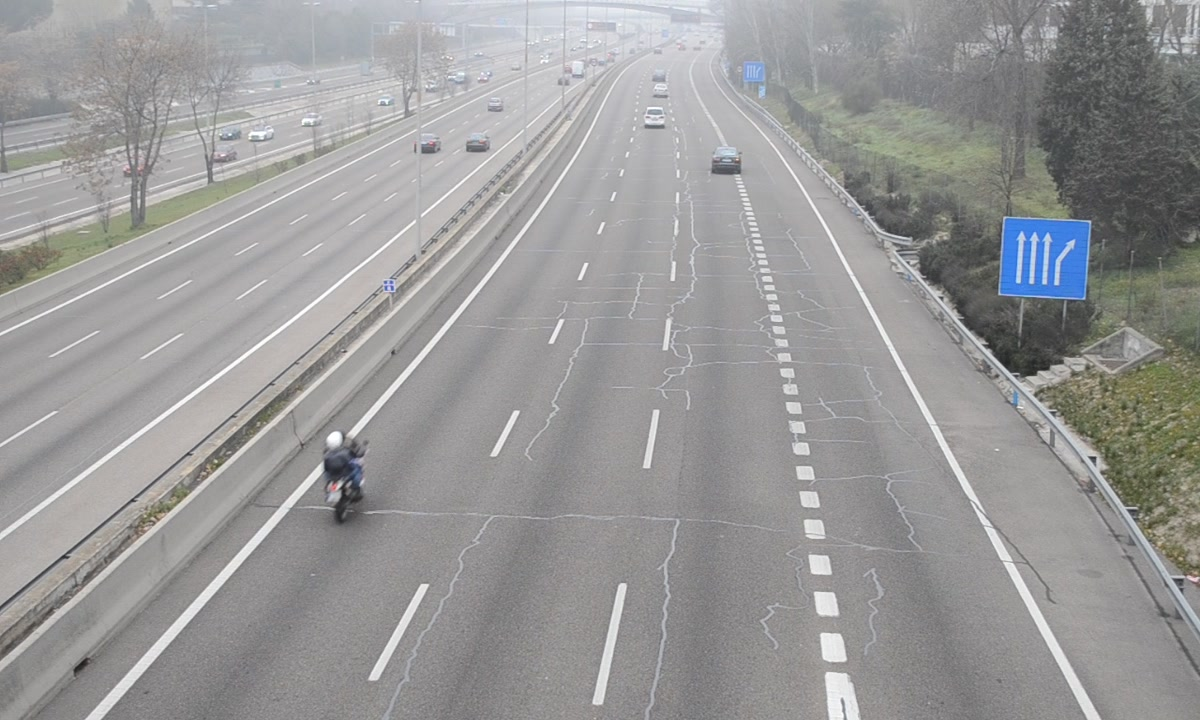car: (710, 145, 741, 174), (643, 107, 667, 130)
motorcycle: (320, 429, 365, 524)
